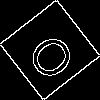O: (24, 24, 85, 85)
